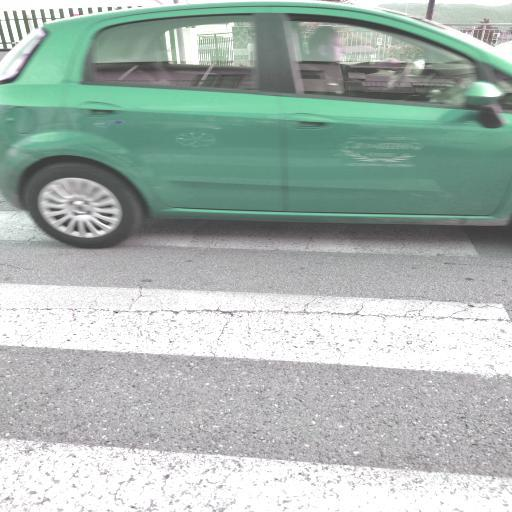crosswalk: (1, 207, 511, 383)
